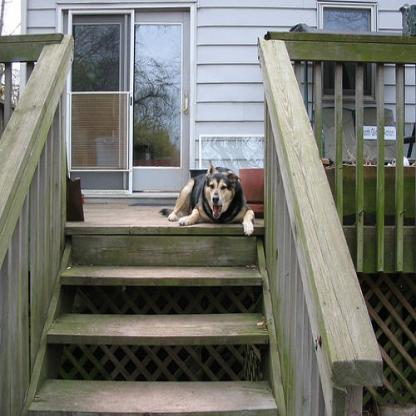dog: (167, 158, 256, 234)
